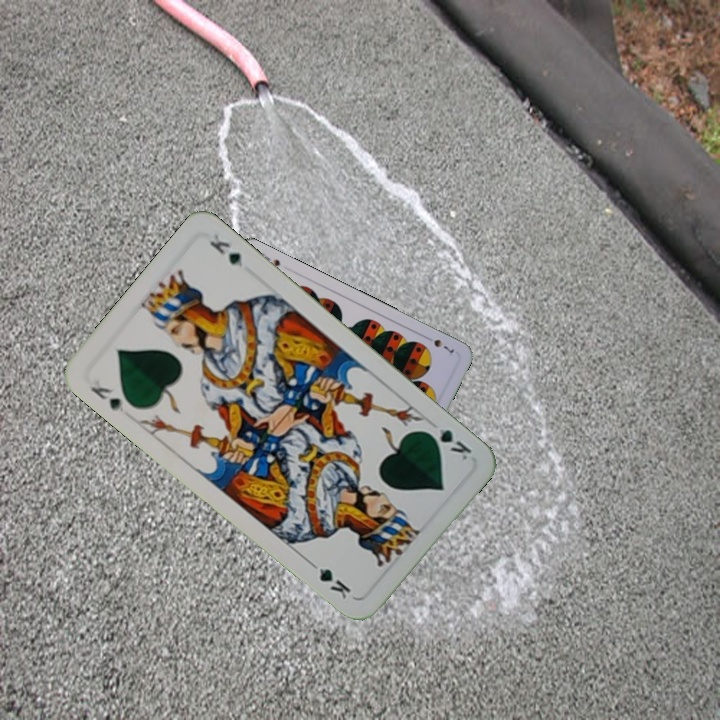GK: (421, 424, 474, 463), (86, 382, 127, 415)
S7: (421, 332, 457, 357)
